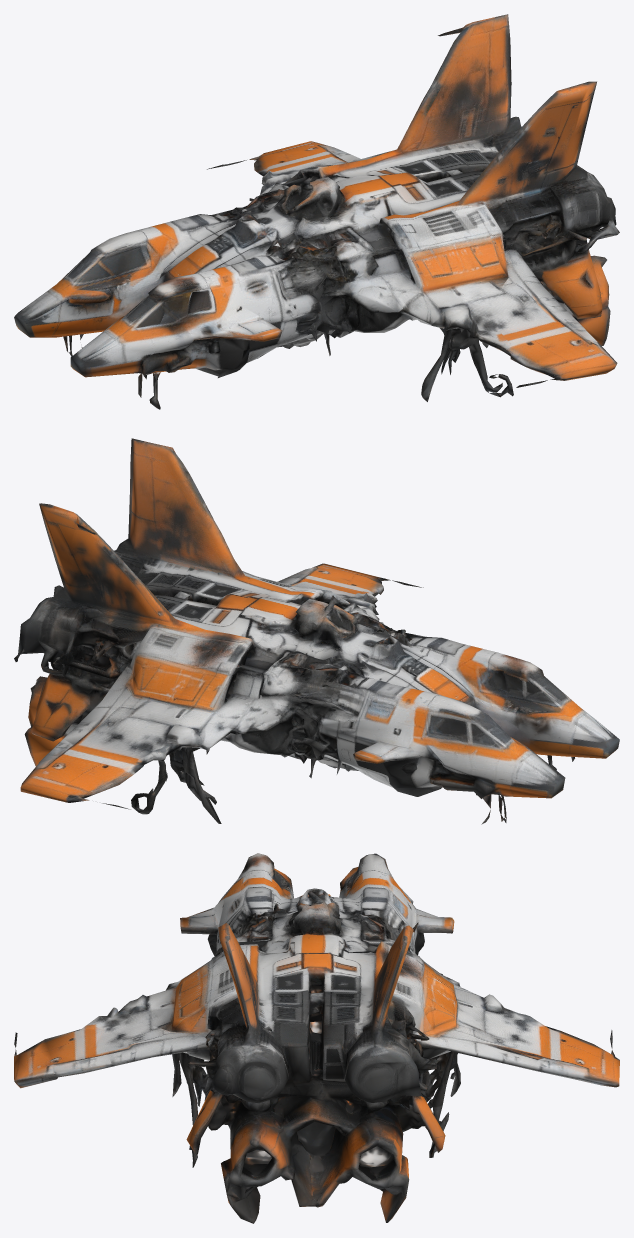
Rendered from engineer.glb.
The picture shows the model from 3 angles, top to bottom: view 1: azimuth 30°, elevation 25°; view 2: azimuth 150°, elevation 25°; view 3: azimuth 270°, elevation 25°; orthographic projection.
Size of the model in its own units: 1.98 by 1.01 by 2.
1 material, 1 textured.
